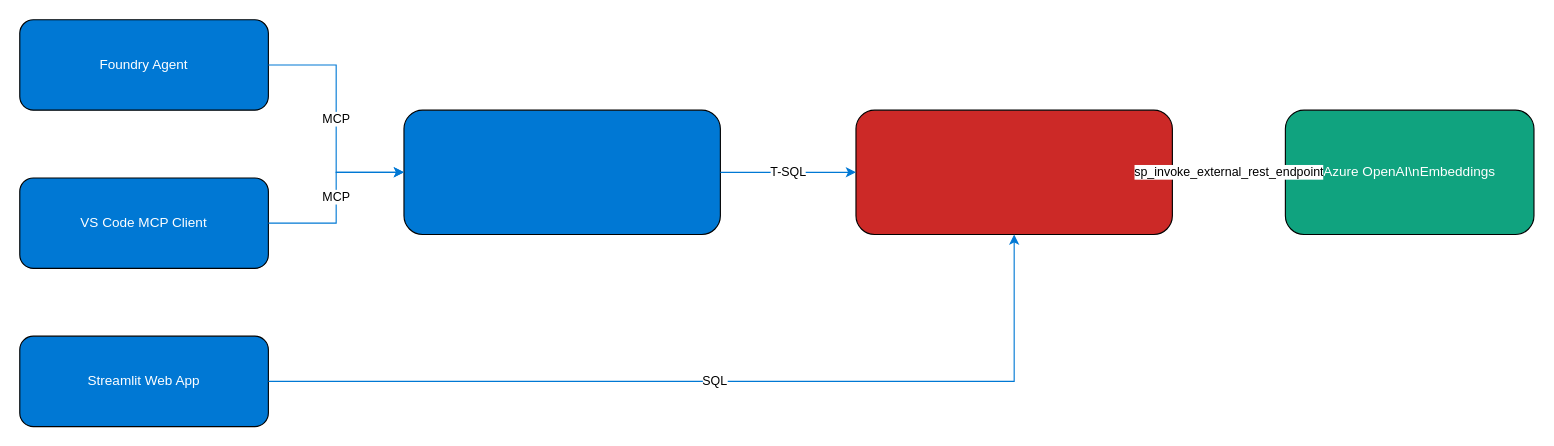
Image size: 1554x446. Some labels were removed from this diagram. Here are the shapes that lost their labels. From the top down, the box of each, then its label:
(403, 109, 720, 234): DAB SQL MCP Server\n(Azure Container Apps)
(855, 109, 1172, 234): Azure SQL Database\nProducts + ProductReviews
